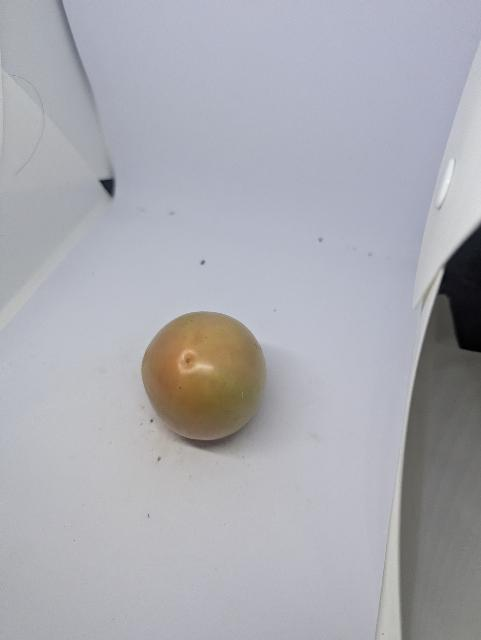turning: (136, 308, 270, 444)
